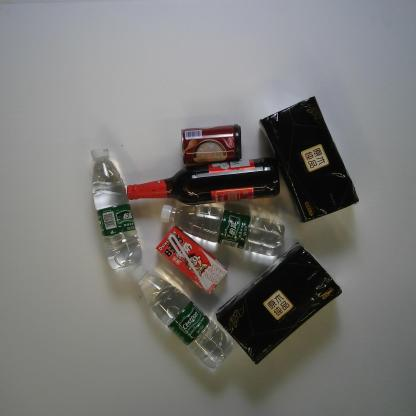Alcohol: (126, 156, 280, 206)
Canned Food: (180, 124, 242, 164)
Drink: (132, 264, 234, 370), (89, 145, 144, 271), (160, 204, 286, 257)
Milk: (155, 225, 228, 296)
Tissue: (214, 242, 343, 366), (258, 95, 360, 224)
